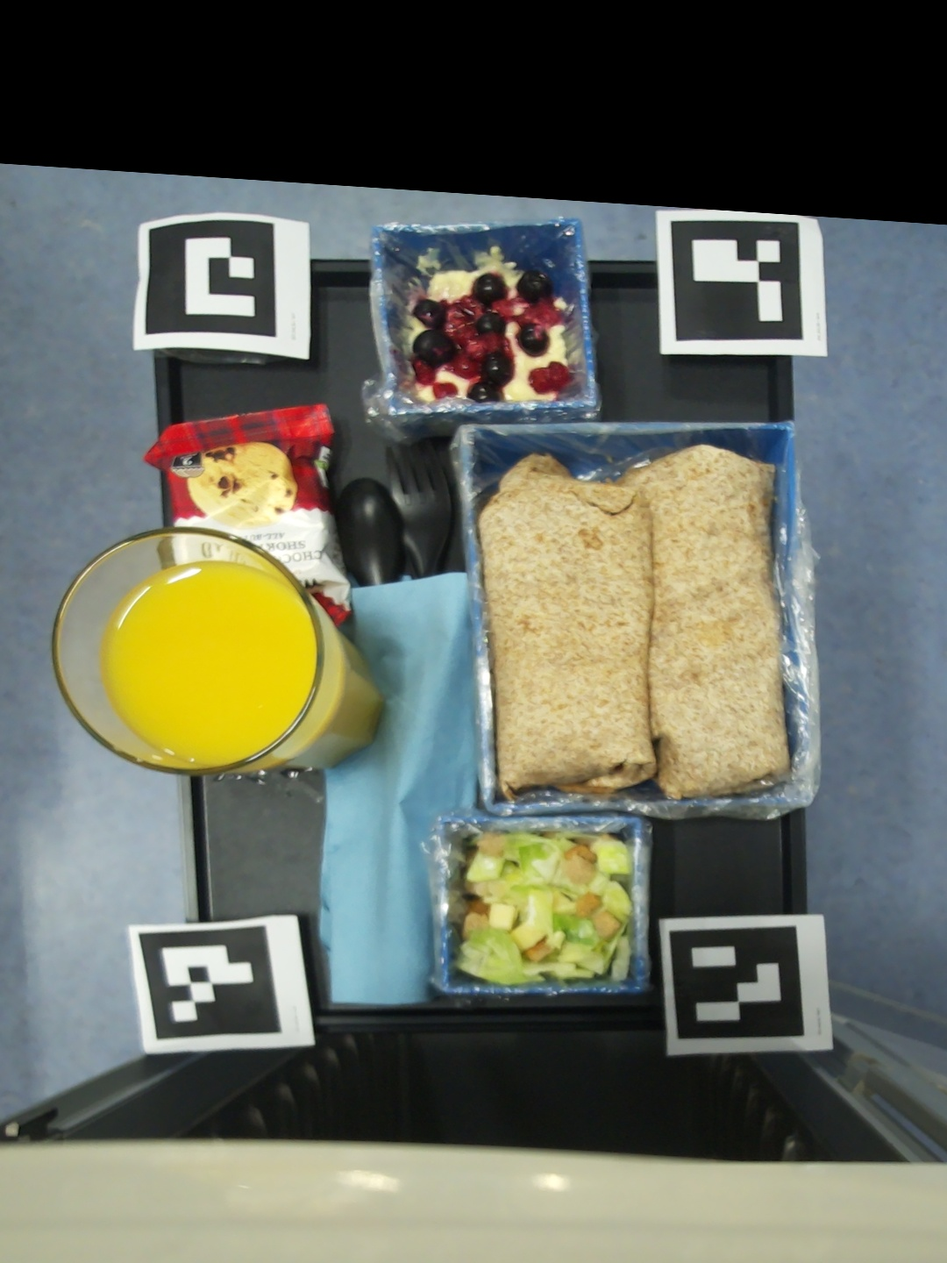cookie: (141, 404, 352, 628)
orange_juice_bottle: (53, 530, 381, 775)
side_salad: (455, 830, 631, 985)
vanilla_pudding_with_fruits: (399, 251, 567, 405)
wrap_half_1: (478, 453, 655, 799)
wrap_half_2: (613, 444, 788, 802)
